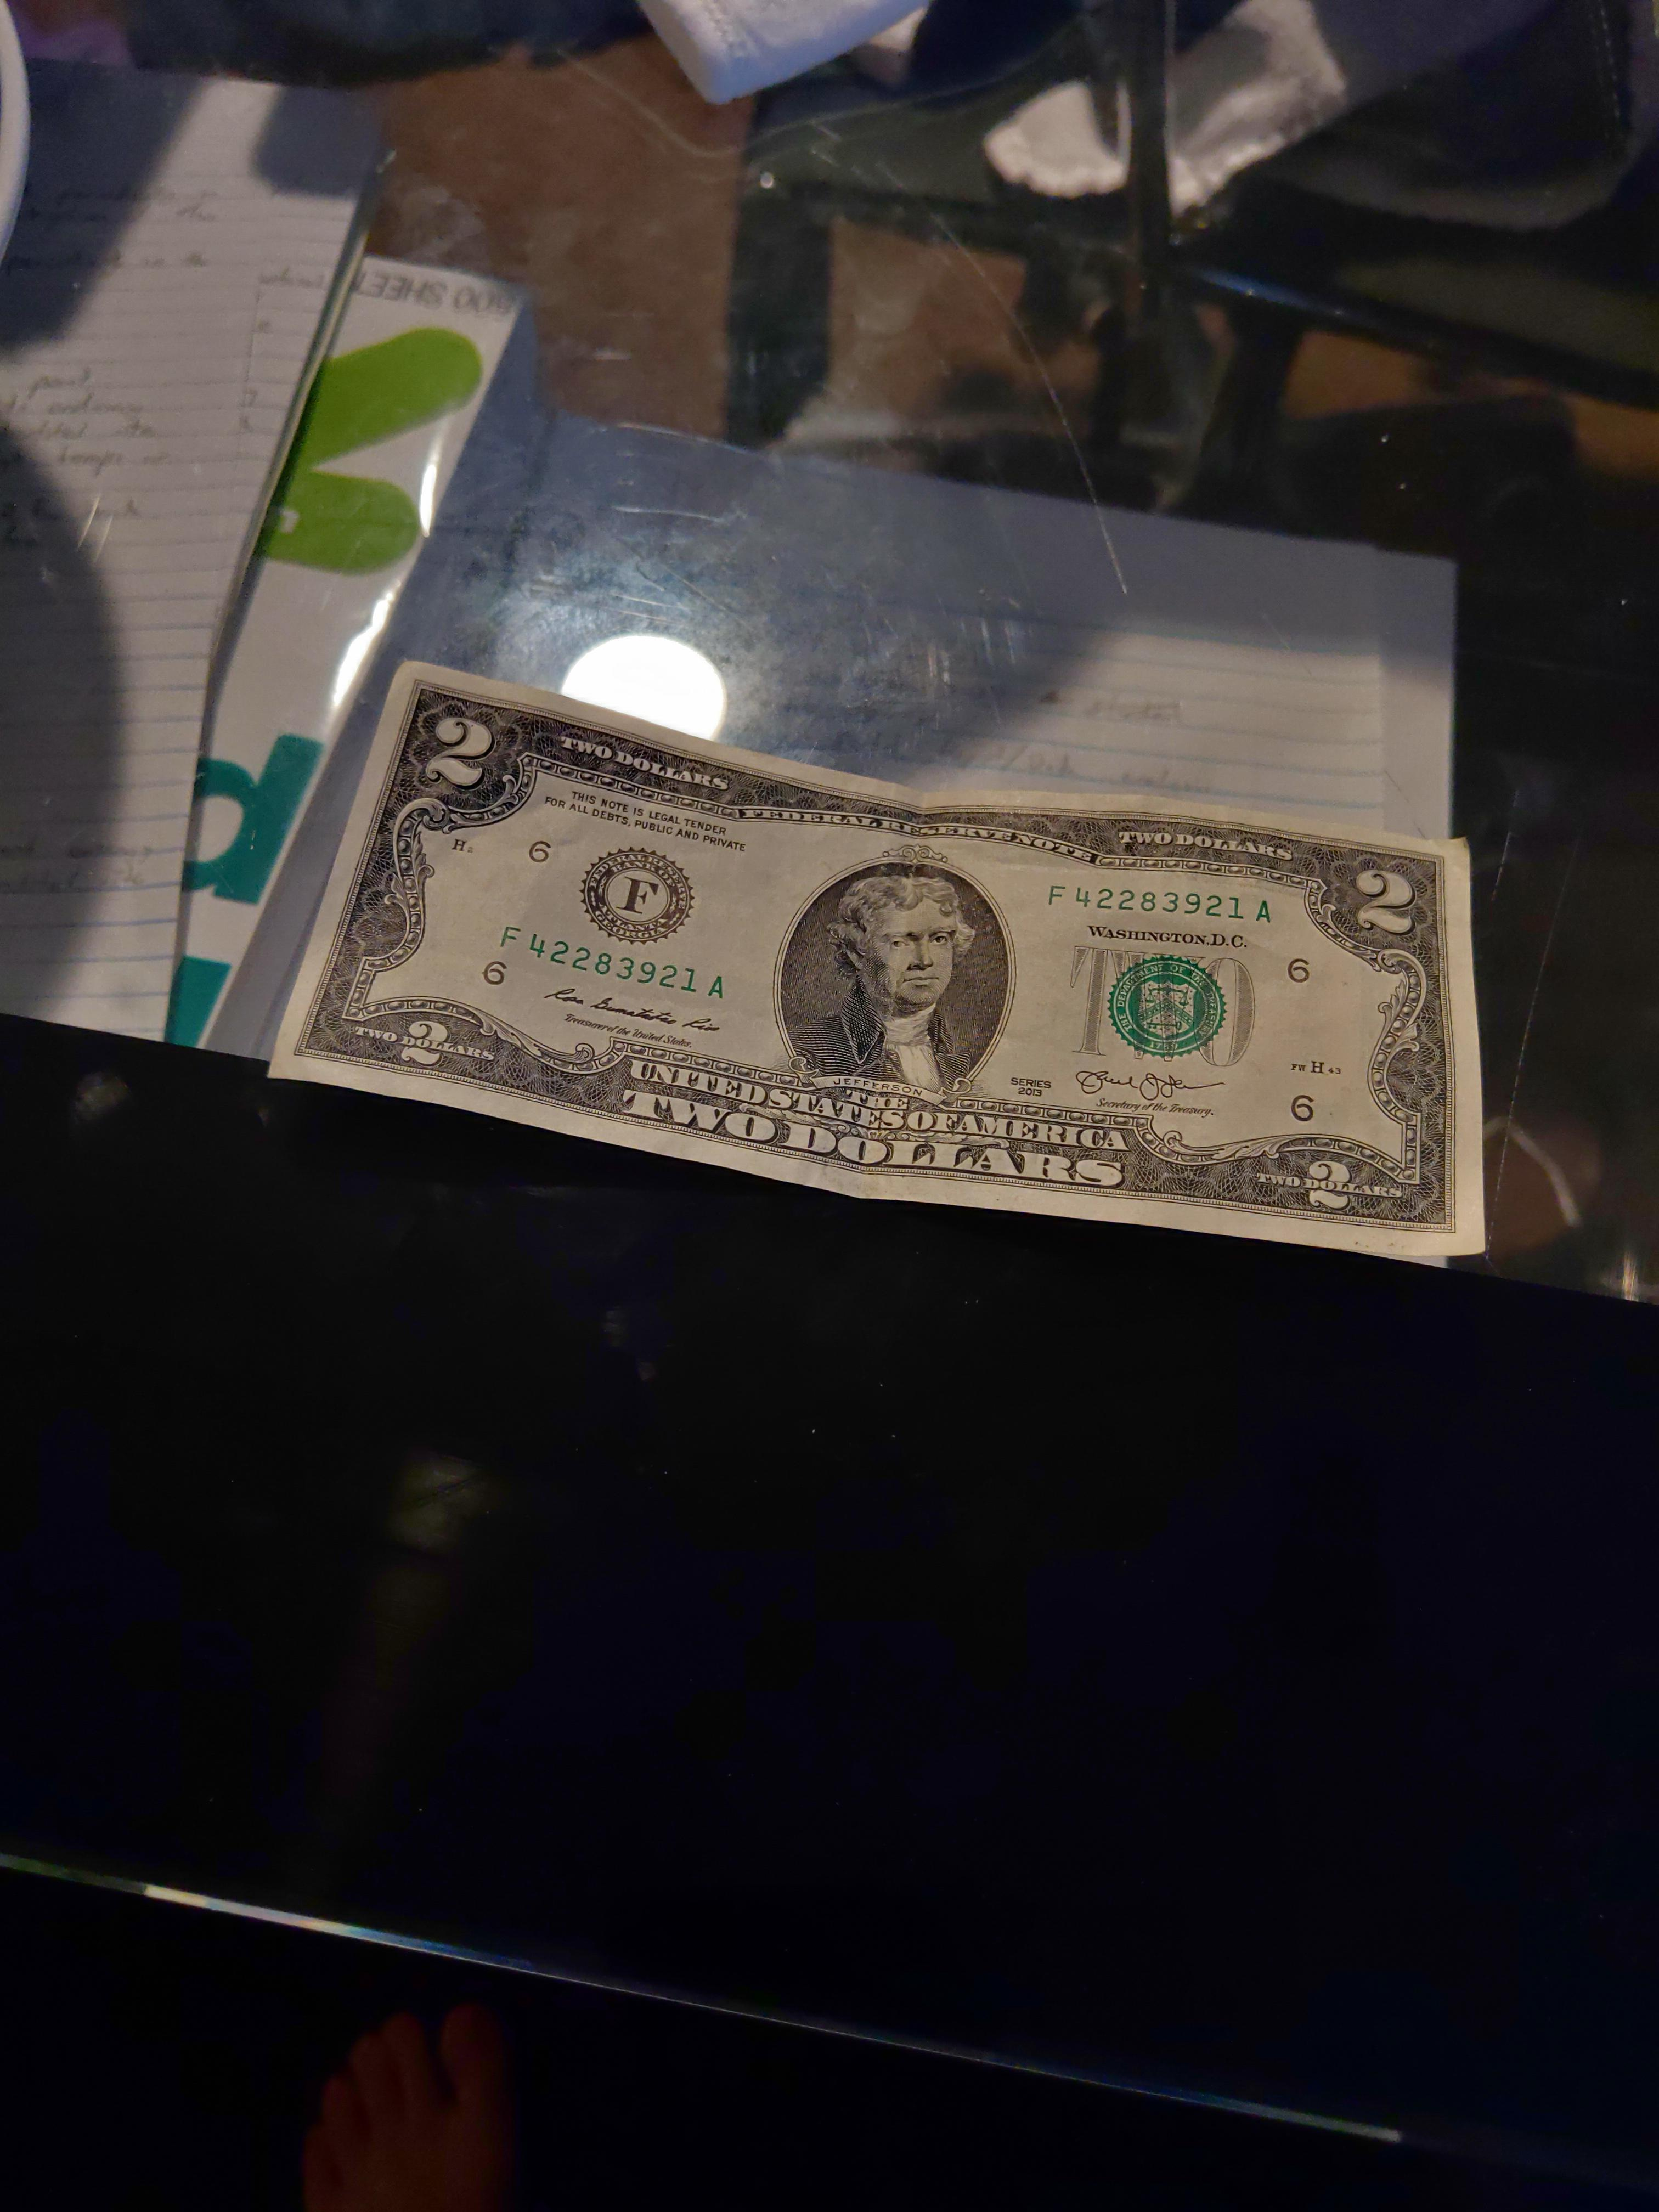TwoBill: (261, 651, 1488, 1256)
